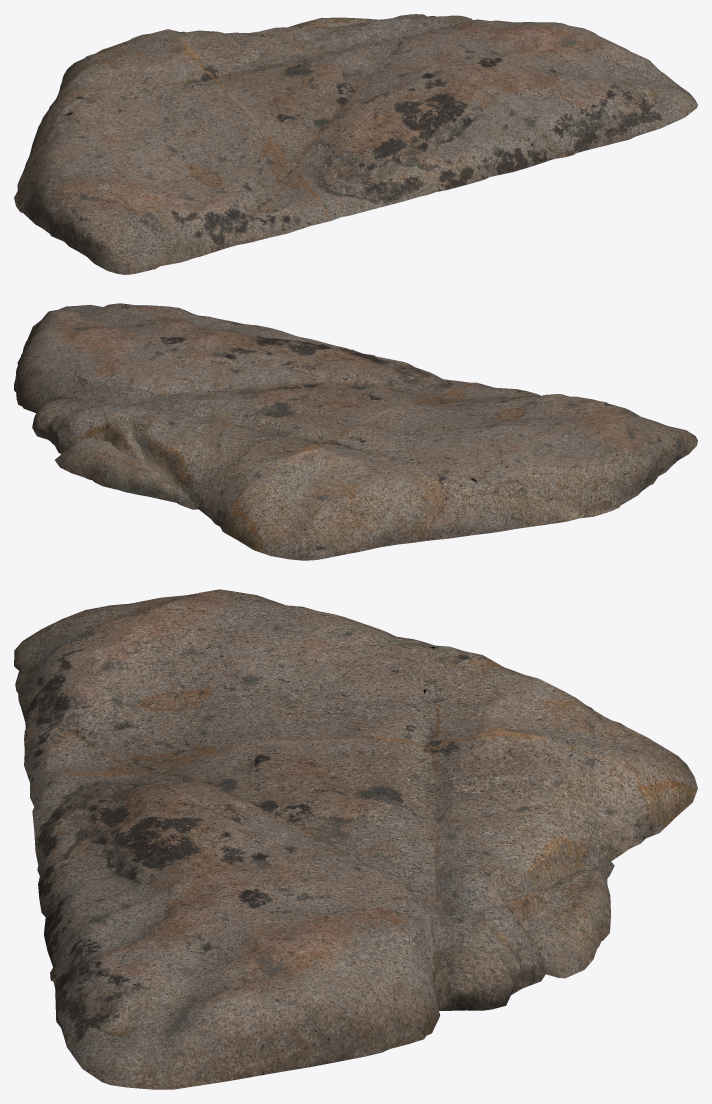
Rendered from SM_wgqtfef_tier_2.gltf.
The picture shows the model from 3 angles, top to bottom: view 1: azimuth 30°, elevation 25°; view 2: azimuth 150°, elevation 25°; view 3: azimuth 270°, elevation 25°; orthographic projection. The views are drawn at different scales.
Parts seen in each view (by area): view 1: wgqtfef_LOD2_TIER2_000; view 2: wgqtfef_LOD2_TIER2_000; view 3: wgqtfef_LOD2_TIER2_000.
Boxes of the visible parts, left/top/right/bottom form: wgqtfef_LOD2_TIER2_000: left=14, top=14, right=697, bottom=274; wgqtfef_LOD2_TIER2_000: left=14, top=303, right=697, bottom=560; wgqtfef_LOD2_TIER2_000: left=14, top=589, right=697, bottom=1089.
Size of the model in its own units: 2.16 by 0.1736 by 1.37.
Materials: 1 (1 with a texture image).
